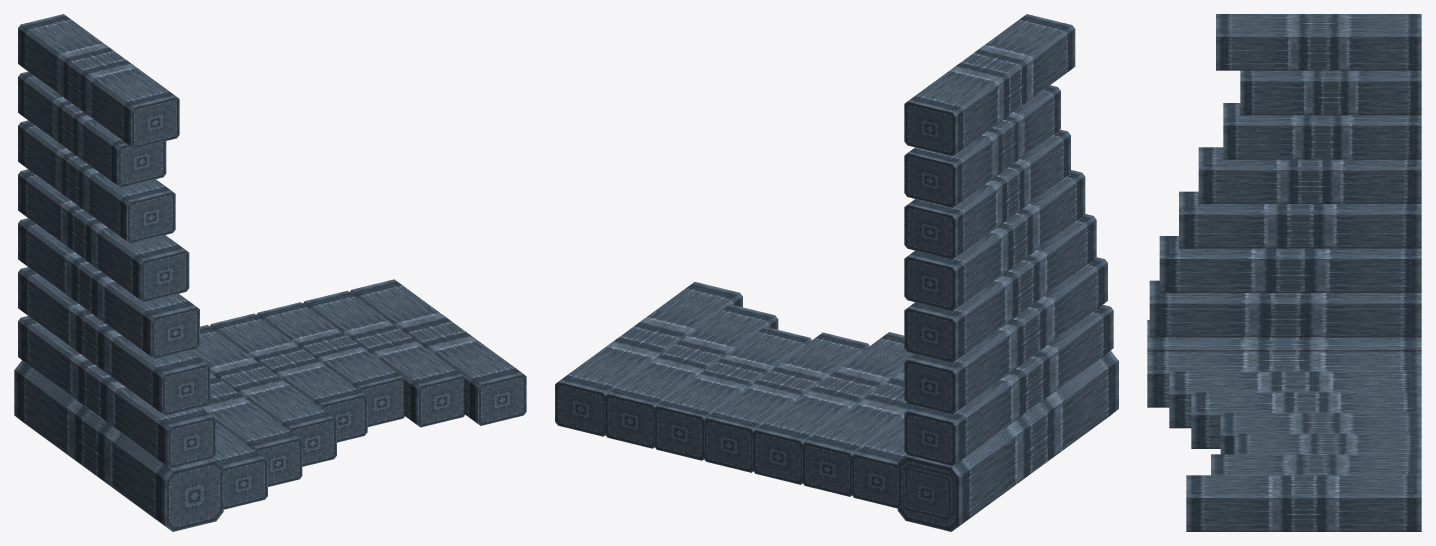
Rendered from rv_ruin_corner.obj.
3 renders of one model, left to right at view 1: azimuth 30°, elevation 25°; view 2: azimuth 150°, elevation 25°; view 3: azimuth 270°, elevation 25°, orthographic. The views are drawn at different scales.
Parts seen in each view (by area): view 1: rv_ruin_corner; view 2: rv_ruin_corner; view 3: rv_ruin_corner.
Part boxes in pixels (x1=…): rv_ruin_corner: x1=14, y1=14, x2=526, y2=531; rv_ruin_corner: x1=555, y1=14, x2=1118, y2=531; rv_ruin_corner: x1=1147, y1=14, x2=1421, y2=531.
Bounding box in the file's own units: 8.2 × 8.13 × 5.6.
1 material, 1 textured.
